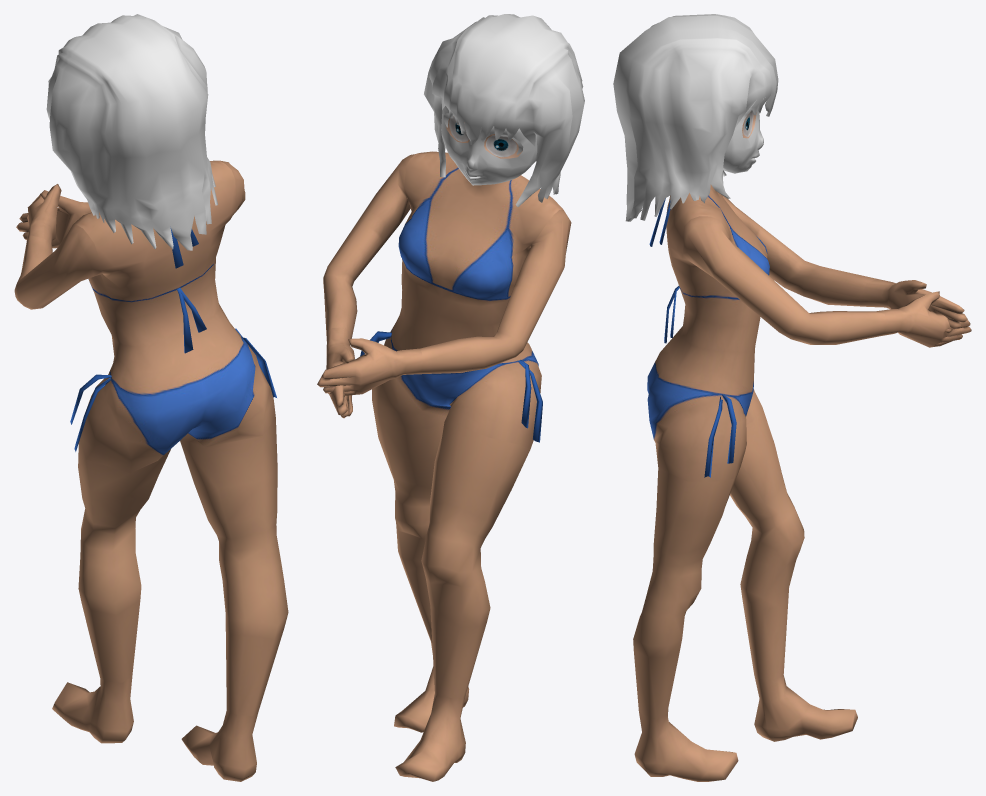
Rendered from stklib_beachWomen_a_main.glb.
3 views of the same model, side by side, from view 1: azimuth 30°, elevation 25°; view 2: azimuth 150°, elevation 25°; view 3: azimuth 270°, elevation 25° (orthographic). The views are drawn at different scales.
Parts seen in each view (by area): view 1: stktex_beachWomenBody_a.jpg__, ___; view 2: stktex_beachWomenBody_a.jpg__, ___, stktex_beachwomenEye_a.jpg__; view 3: stktex_beachWomenBody_a.jpg__, ___.
Part boxes in pixels (x1,y1,x2,y2): stktex_beachWomenBody_a.jpg__: [14, 160, 288, 781]; ___: [46, 14, 217, 250]; stktex_beachWomenBody_a.jpg__: [317, 151, 571, 781]; ___: [424, 14, 584, 206]; stktex_beachwomenEye_a.jpg__: [446, 116, 522, 158]; stktex_beachWomenBody_a.jpg__: [633, 184, 971, 781]; ___: [613, 14, 778, 221].
Size of the model in its own units: 0.5523 by 1.77 by 0.8053.
Materials: 3 (2 with a texture image).
